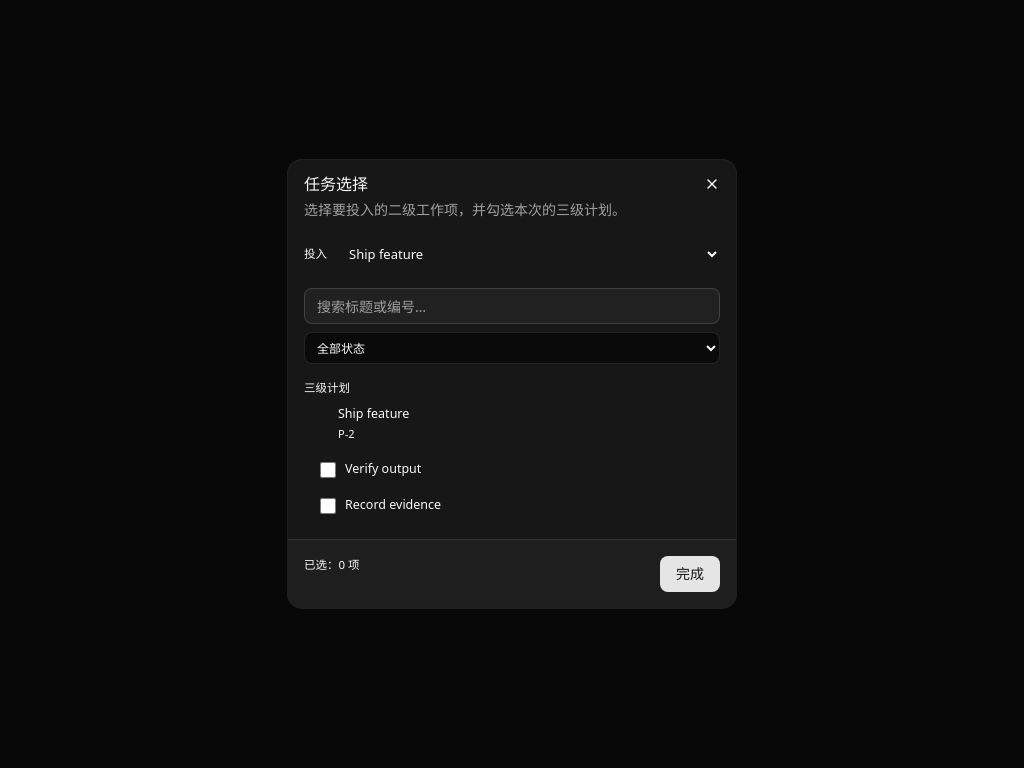
Scenario: TaskPickerModal 筛选（外派单验收 2：走 filterWorkItemTree，不自造过滤） › 状态筛选：已完成 → 只剩已完成项；未完成 → 只剩未完成项
Select "已完成" in the dropdown named "按状态筛选": (512, 348) [304, 332, 720, 364]
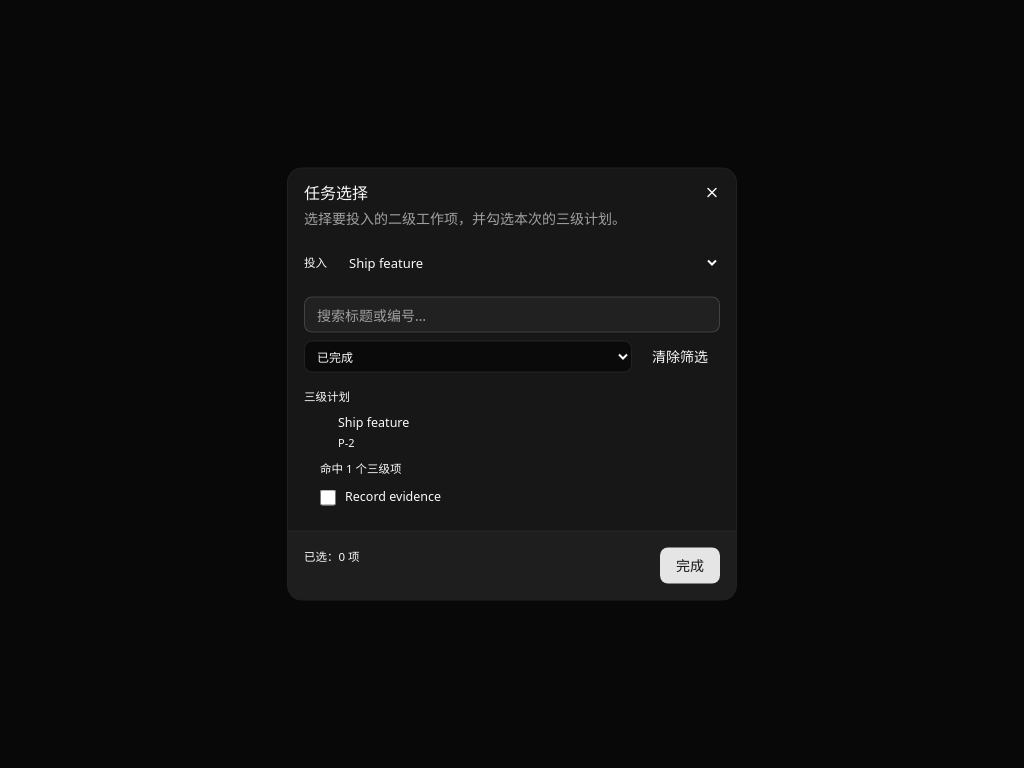
Expected: the checkbox labelled "Record evidence" is shown, [320, 490, 336, 506]
Expected: the text "Verify output" is gone
Select "未完成" in the dropdown named "按状态筛选": (468, 356) [304, 340, 632, 372]
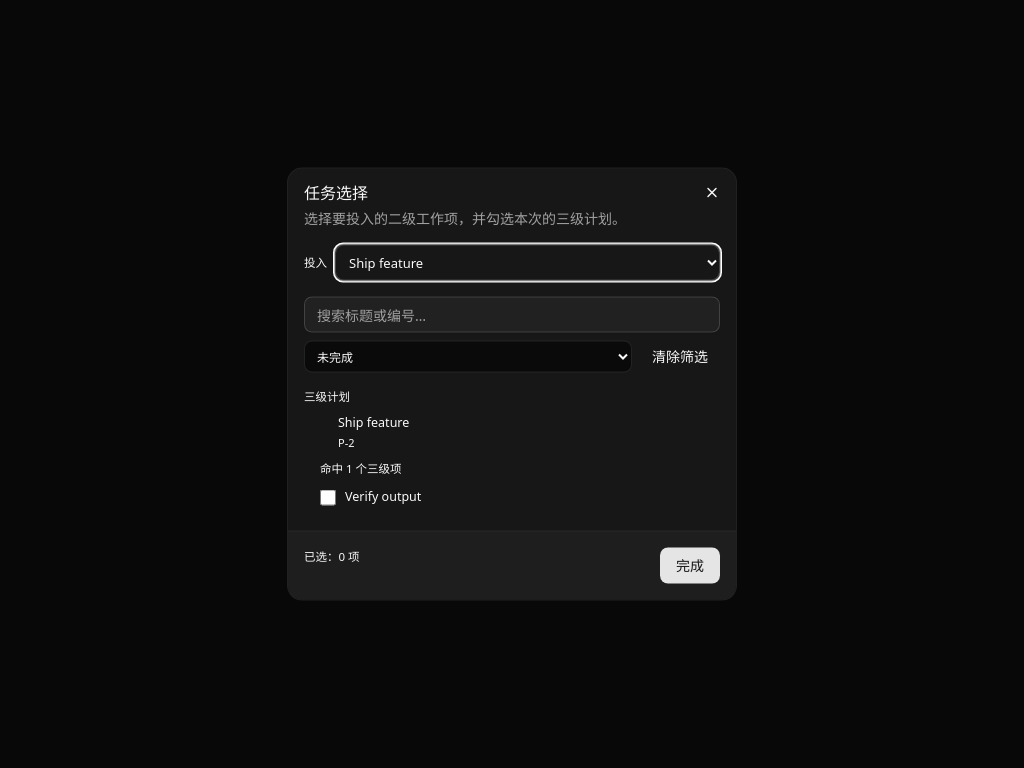
Expected: the checkbox labelled "Verify output" is shown, [320, 490, 336, 506]
Expected: the text "Record evidence" is gone
